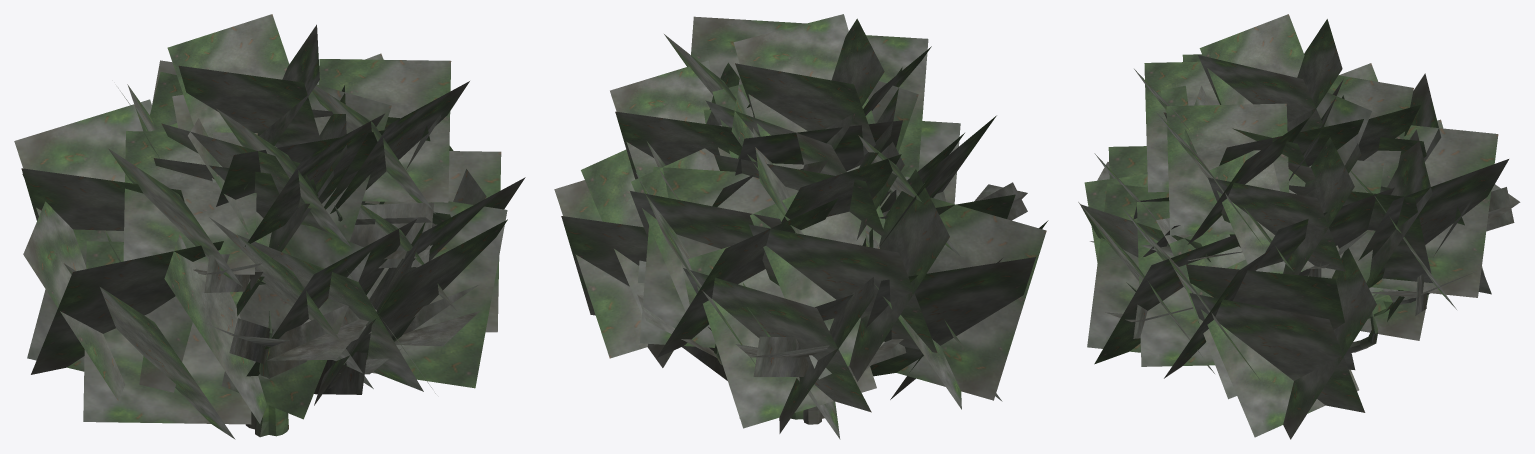
The model's file is old_oak_chopped.dae.
3 renders of one model, left to right at view 1: azimuth 30°, elevation 25°; view 2: azimuth 150°, elevation 25°; view 3: azimuth 270°, elevation 25°, orthographic. The views are drawn at different scales.
Visible parts, largest first — view 1: old_oak_chopped; view 2: old_oak_chopped; view 3: old_oak_chopped.
Part boxes in pixels (bbox=[...]): old_oak_chopped: bbox=[14, 14, 525, 439]; old_oak_chopped: bbox=[554, 14, 1048, 439]; old_oak_chopped: bbox=[1078, 14, 1520, 439].
Size of the model in its own units: 113 by 101 by 86.28.
